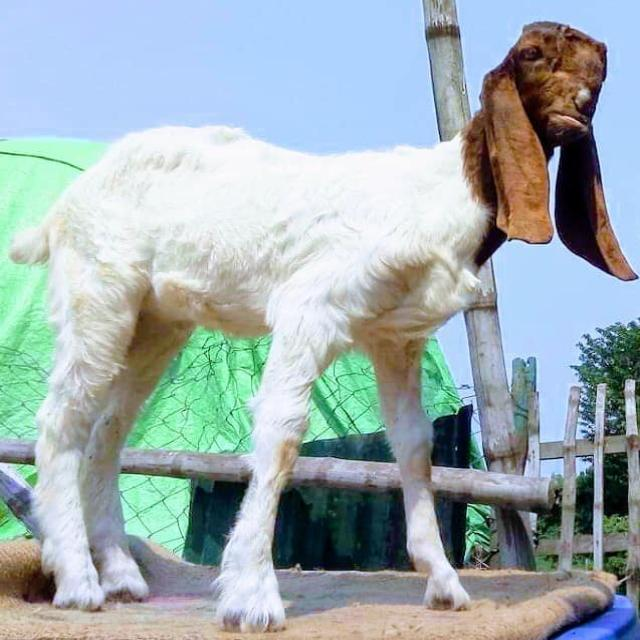Goat: (4, 19, 638, 633)
